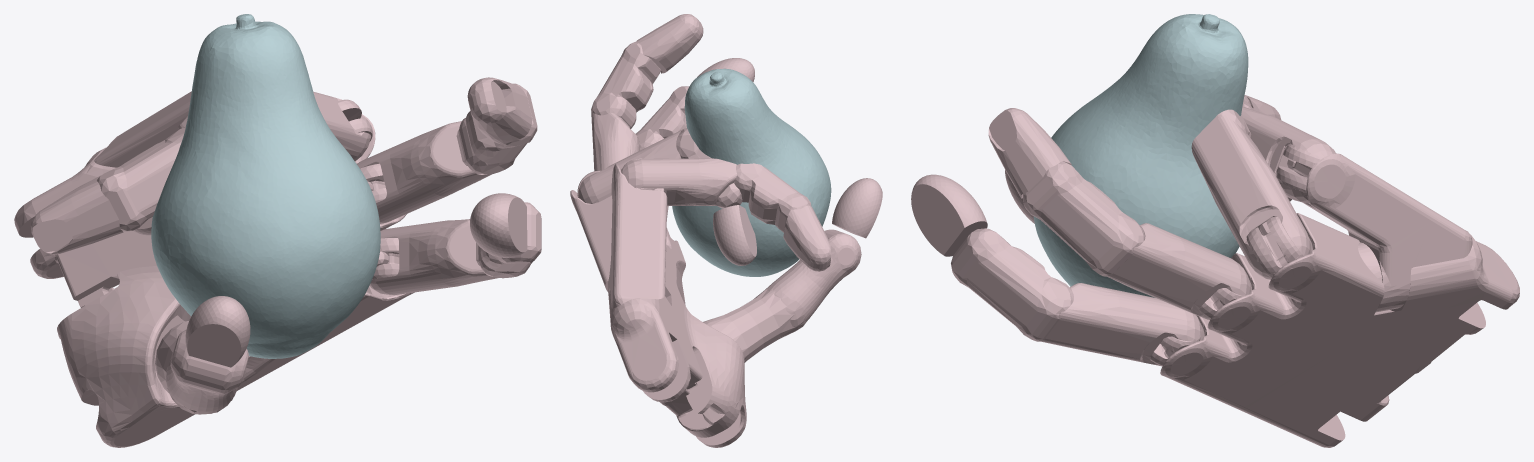
The model's file is grasp_6.glb.
3 views of the same model, side by side, from view 1: azimuth 30°, elevation 25°; view 2: azimuth 150°, elevation 25°; view 3: azimuth 270°, elevation 25° (orthographic). The views are drawn at different scales.
Visible parts, largest first — view 1: world; view 2: world; view 3: world.
Boxes of the visible parts, box(x1,y1,x2,y2) form: world: box(14, 14, 541, 447); world: box(570, 14, 882, 447); world: box(911, 14, 1519, 447).
Bounding box in the file's own units: 0.1395 × 0.1528 × 0.185.
